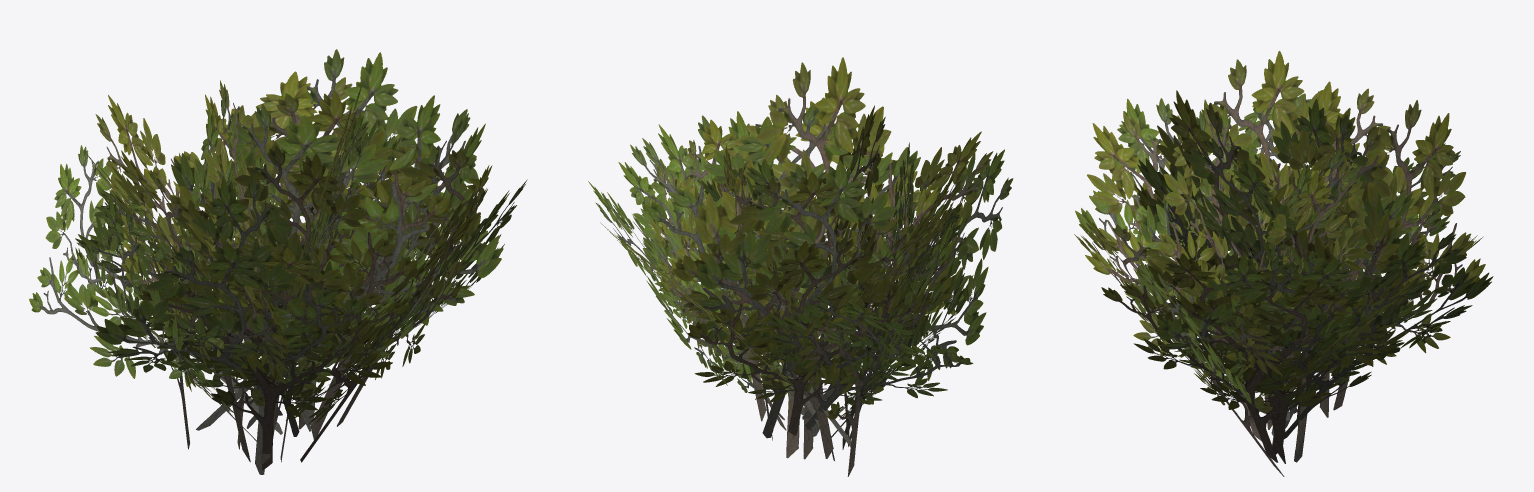
The model's file is bush.fbx.
3 renders of one model, left to right at view 1: azimuth 30°, elevation 25°; view 2: azimuth 150°, elevation 25°; view 3: azimuth 270°, elevation 25°, orthographic. The views are drawn at different scales.
Visible parts, largest first — view 1: bush; view 2: bush; view 3: bush.
Part boxes in pixels (box(x1,y1,x2,y2)): bush: box(29, 49, 527, 474); bush: box(588, 57, 1013, 476); bush: box(1074, 51, 1493, 476).
Size of the model in its own units: 276 by 252 by 252.
